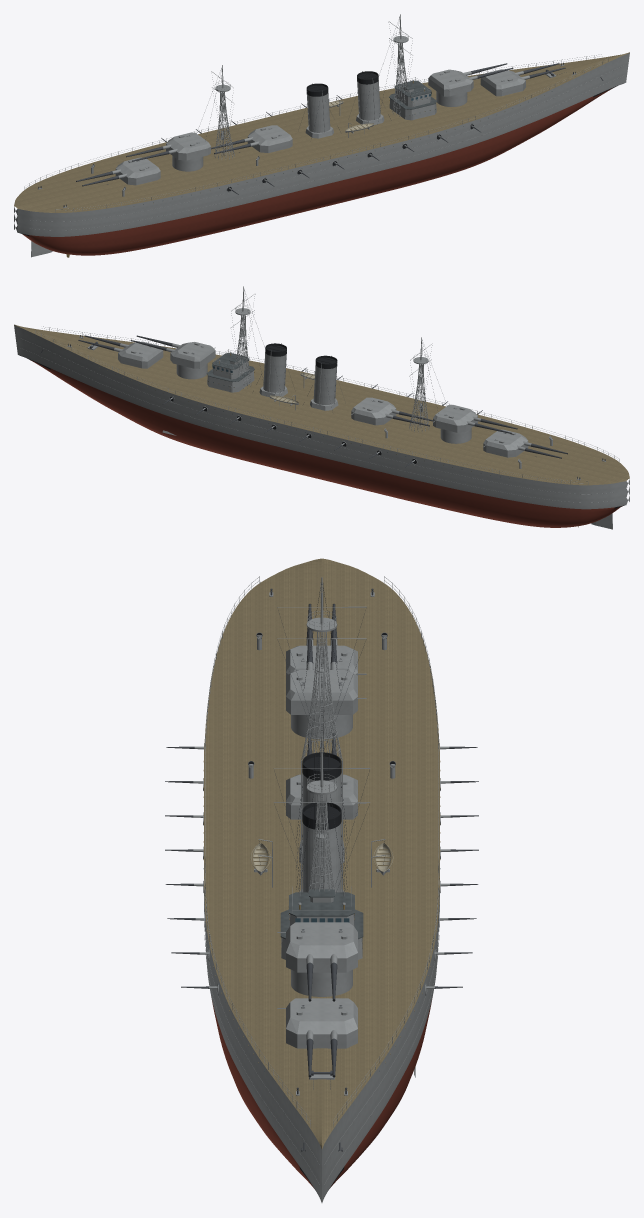
Rendered from new_york.glb.
3 views of the same model, one above another, from view 1: azimuth 30°, elevation 25°; view 2: azimuth 150°, elevation 25°; view 3: azimuth 270°, elevation 25° (orthographic). The views are drawn at different scales.
Parts seen in each view (by area): view 1: New York class; view 2: New York class; view 3: New York class.
Part boxes in pixels (x1,y1,x2,y2): New York class: (14,14,629,257); New York class: (14,286,629,529); New York class: (165,558,478,1202).
Bounding box in the file's own units: 175 × 42.22 × 38.68.
9 materials, 8 textured.
